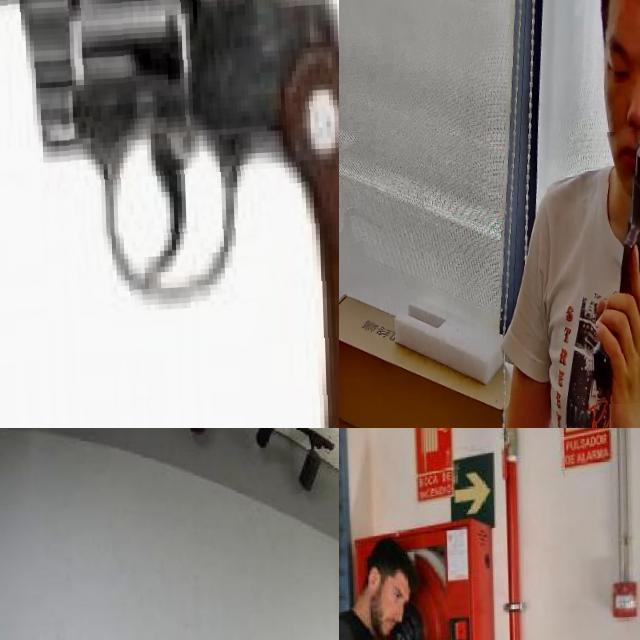gun-knife-thesis - v11 Yolov5 augmented: (0, 0, 339, 428), (578, 133, 640, 409)
